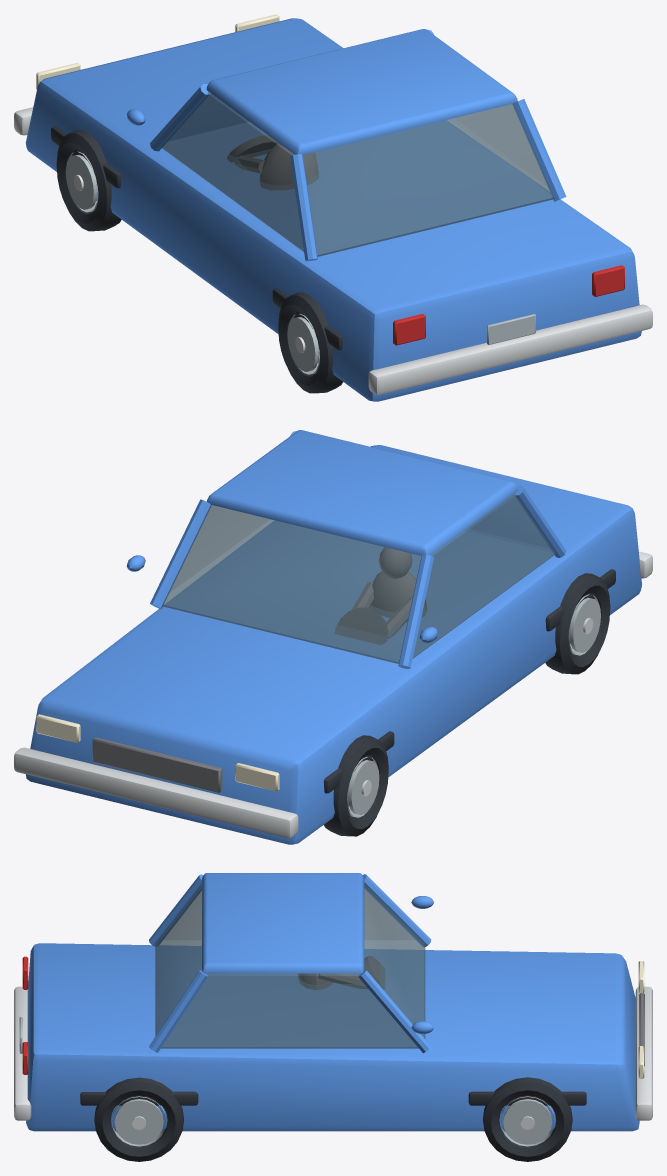
The model's file is TrafficSedan.fbx.
3 views of the same model, one above another, from view 1: azimuth 30°, elevation 25°; view 2: azimuth 150°, elevation 25°; view 3: azimuth 270°, elevation 25° (orthographic). The views are drawn at different scales.
Parts seen in each view (by area): view 1: Body__paint, Body__glass, Body__chrome, WheelFL__rubber, WheelRL__rubber, Body__driver, Body__tail, WheelFL__metal, WheelRL__metal, Body__rubber, Body__metal, Body__lamp (+1 smaller); view 2: Body__paint, Body__glass, Body__chrome, Body__engine, Body__driver, WheelFL__rubber, WheelRL__rubber, Body__lamp, Body__interior, WheelRL__metal, WheelFL__metal, Body__rubber; view 3: Body__paint, Body__glass, WheelFR__rubber, WheelRR__rubber, Body__chrome, WheelFR__metal, WheelRR__metal, Body__rubber, Body__driver, Body__tail, Body__lamp.
Boxes of the visible parts, box(x1,y1,x2,y2) form: Body__paint: box(25, 18, 641, 401); Body__glass: box(161, 91, 553, 256); Body__chrome: box(14, 107, 652, 394); WheelFL__rubber: box(56, 130, 121, 231); WheelRL__rubber: box(278, 292, 342, 393); Body__driver: box(235, 140, 318, 189); Body__tail: box(393, 265, 624, 345); WheelFL__metal: box(66, 151, 98, 212); WheelRL__metal: box(287, 313, 319, 374); Body__rubber: box(51, 126, 342, 350); Body__metal: box(487, 314, 535, 344); Body__lamp: box(36, 14, 279, 89); Body__paint: box(26, 430, 641, 844); Body__glass: box(162, 493, 555, 663); Body__chrome: box(14, 551, 652, 837); Body__engine: box(92, 737, 222, 792); Body__driver: box(352, 547, 426, 638); WheelFL__rubber: box(324, 735, 388, 836); WheelRL__rubber: box(545, 573, 610, 674); Body__lamp: box(36, 714, 279, 791); Body__interior: box(335, 607, 388, 644); WheelRL__metal: box(568, 594, 600, 655); WheelFL__metal: box(347, 757, 379, 817); Body__rubber: box(323, 569, 615, 793); Body__paint: box(26, 873, 639, 1131); Body__glass: box(155, 883, 425, 1048); WheelFR__rubber: box(483, 1077, 572, 1161); WheelRR__rubber: box(94, 1077, 183, 1161); Body__chrome: box(14, 986, 652, 1120); WheelFR__metal: box(500, 1096, 554, 1146); WheelRR__metal: box(112, 1096, 166, 1146); Body__rubber: box(80, 1091, 586, 1105); Body__driver: box(298, 973, 367, 989); Body__tail: box(22, 956, 28, 1074); Body__lamp: box(638, 961, 644, 1078).
Size of the model in its own units: 2.16 by 1.42 by 4.44.
